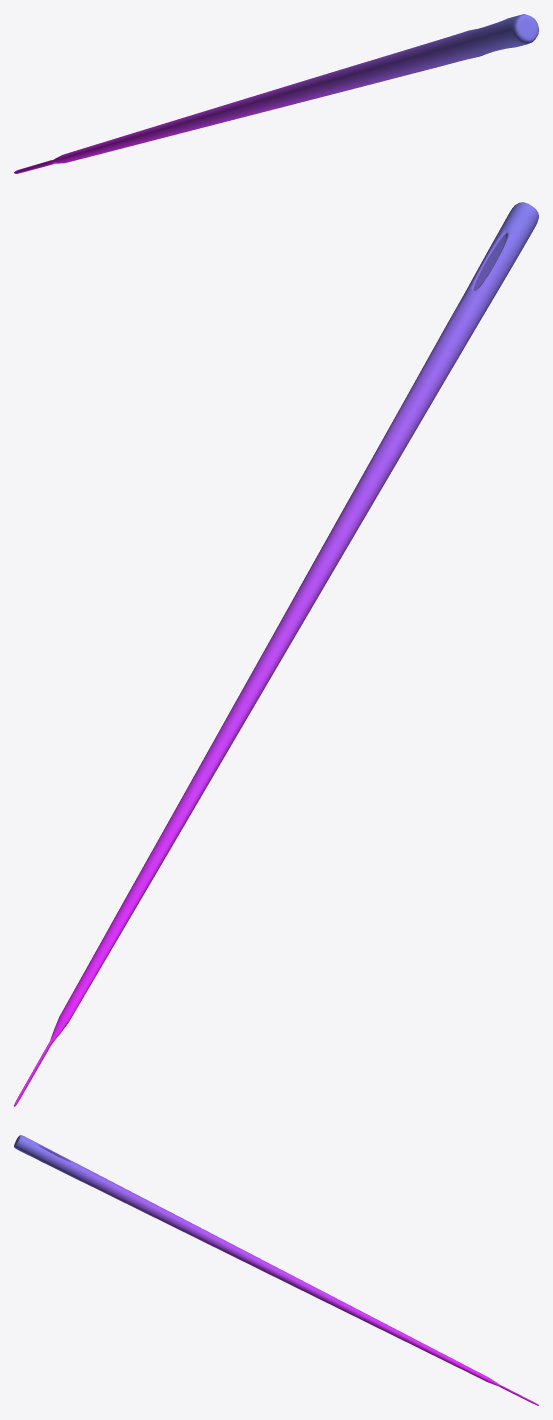
File: NeedleRev2.fbx
The picture shows the model from 3 angles, top to bottom: view 1: azimuth 30°, elevation 25°; view 2: azimuth 150°, elevation 25°; view 3: azimuth 270°, elevation 25°; orthographic projection. The views are drawn at different scales.
Visible parts, largest first — view 1: pCylinder3; view 2: pCylinder3; view 3: pCylinder3.
Part boxes in pixels (<box>): pCylinder3: <box>14,14,538,173</box>; pCylinder3: <box>14,202,538,1106</box>; pCylinder3: <box>14,1135,538,1405</box>.
Bounding box in the file's own units: 0.3848 × 7.91 × 13.93.
Materials: 1 (1 with a texture image).
